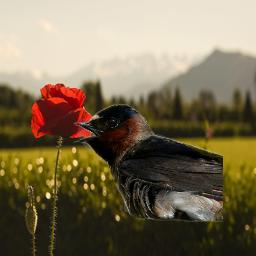Swallow: (73, 104, 223, 222)
